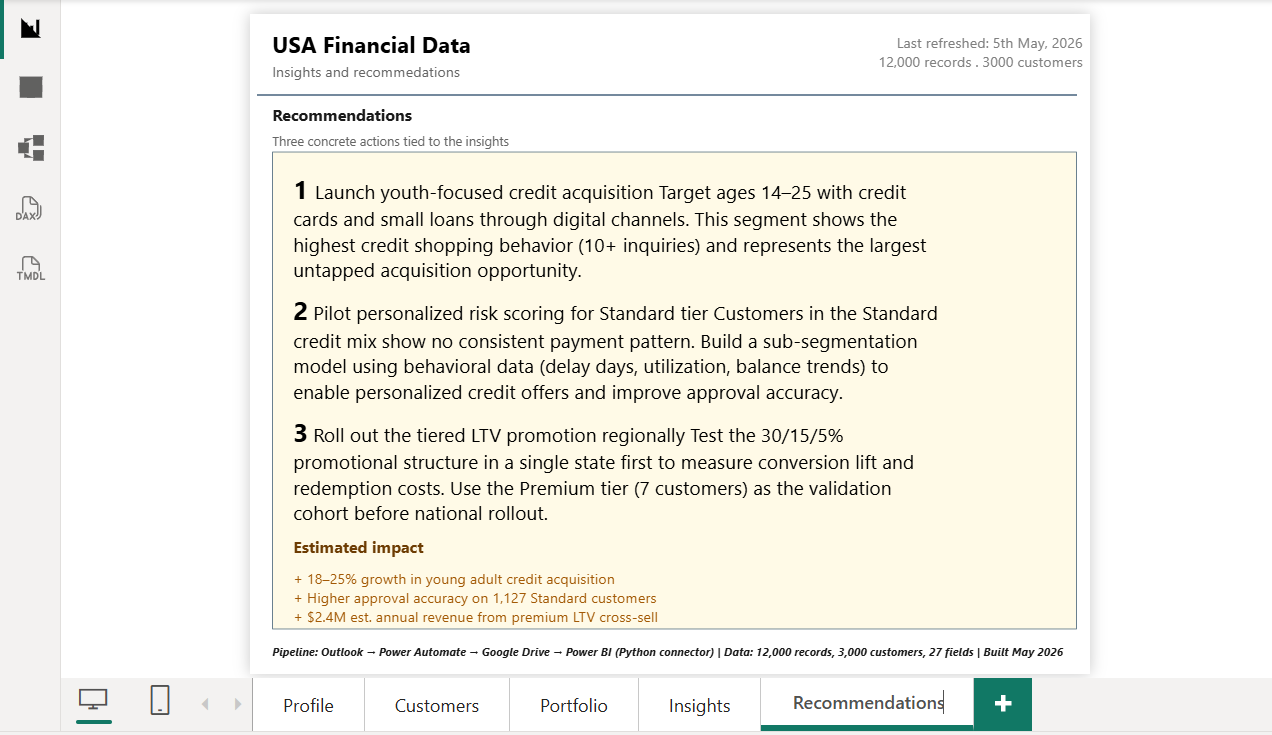

What the dashboard file says about the page in this screenshot:
{"tool":"powerbi","page":{"name":"Recommendations","canvas":[1400,1100],"ordinal":4},"visuals":[{"type":"group","id":"g1","title":"Group 3","box":[0,0,1400,152.5],"z":0},{"type":"textbox","box":[25,12.5,597.5,80],"z":0,"group":"g1"},{"type":"textbox","box":[25,67.5,447.5,57.5],"z":1000,"group":"g1"},{"type":"textbox","box":[25,137.5,352.5,70],"z":1000},{"type":"textbox","box":[1017.5,0,382.5,122.5],"z":2000,"group":"g1"},{"type":"textbox","box":[25,185,725,65],"z":2000},{"type":"shape","box":[0,117.5,1390,35],"z":3000,"group":"g1"},{"type":"shape","box":[25,217.5,1365,820],"z":3000},{"type":"textbox","box":[60,250,1117.5,787.5],"z":4000},{"type":"textbox","box":[25,1037.5,1365,62.5],"z":5000}]}

Visuals, with their boxes on the page's 1400x1100 design canvas (x1, y1, x2, y2). These are canvas units, not pixel positions in the 1272x735 screenshot, which may show the page scaled, cropped or inside an application window:
"Group 3" group: {"left": 0, "top": 0, "right": 1400, "bottom": 152}
textbox: {"left": 25, "top": 12, "right": 622, "bottom": 92}
textbox: {"left": 25, "top": 68, "right": 472, "bottom": 125}
textbox: {"left": 25, "top": 138, "right": 378, "bottom": 208}
textbox: {"left": 1018, "top": 0, "right": 1400, "bottom": 122}
textbox: {"left": 25, "top": 185, "right": 750, "bottom": 250}
shape: {"left": 0, "top": 118, "right": 1390, "bottom": 152}
shape: {"left": 25, "top": 218, "right": 1390, "bottom": 1038}
textbox: {"left": 60, "top": 250, "right": 1178, "bottom": 1038}
textbox: {"left": 25, "top": 1038, "right": 1390, "bottom": 1100}
